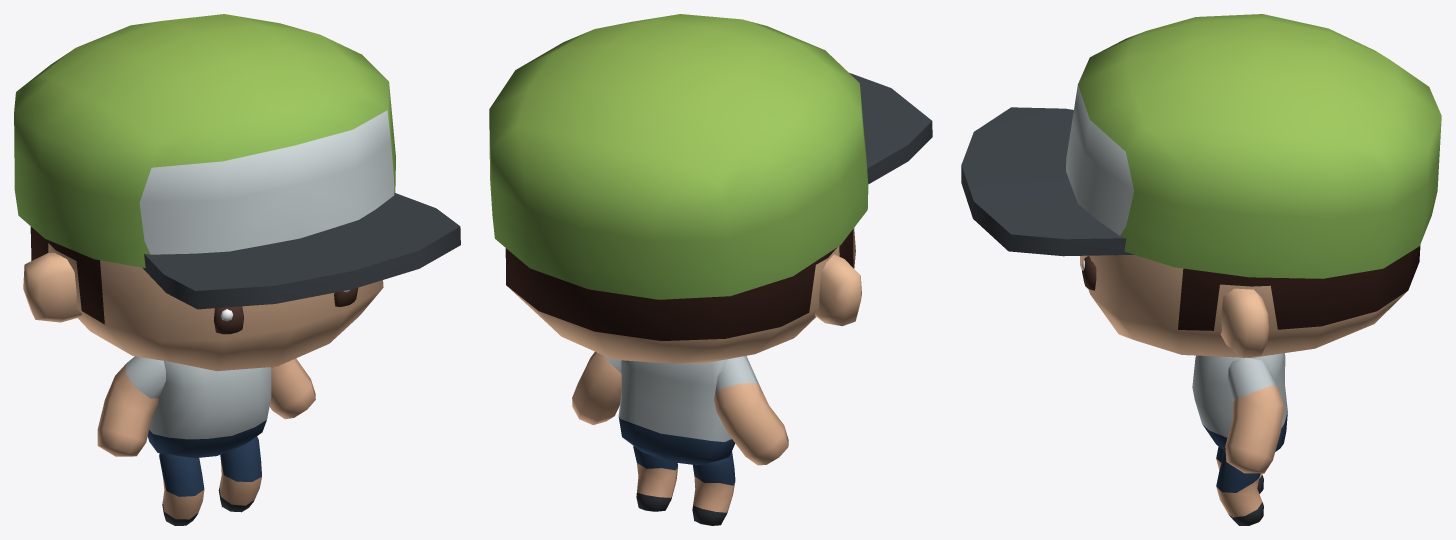
Rendered from idle_0005.obj.
3 renders of one model, left to right at view 1: azimuth 30°, elevation 25°; view 2: azimuth 150°, elevation 25°; view 3: azimuth 270°, elevation 25°, orthographic.
Parts seen in each view (by area): view 1: Object_41, Object_42, Object_36, Object_44, Object_38; view 2: Object_41, Object_36, Object_44, Object_42; view 3: Object_41, Object_36, Object_42, Object_44.
Boxes of the visible parts, <box> form: Object_41: <box>14,14,395,268</box>; Object_42: <box>139,110,460,309</box>; Object_36: <box>23,226,383,371</box>; Object_44: <box>97,356,315,525</box>; Object_38: <box>213,288,358,334</box>; Object_41: <box>489,14,868,299</box>; Object_36: <box>505,228,861,363</box>; Object_44: <box>572,351,788,525</box>; Object_42: <box>849,72,932,184</box>; Object_41: <box>1078,14,1441,278</box>; Object_36: <box>1080,245,1420,357</box>; Object_42: <box>961,85,1133,256</box>; Object_44: <box>1192,353,1287,525</box>.
Size of the model in its own units: 0.9691 by 1.21 by 1.14.
